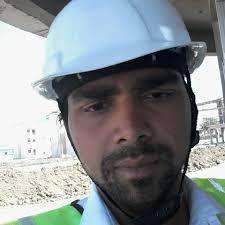helmet: (30, 0, 207, 96)
